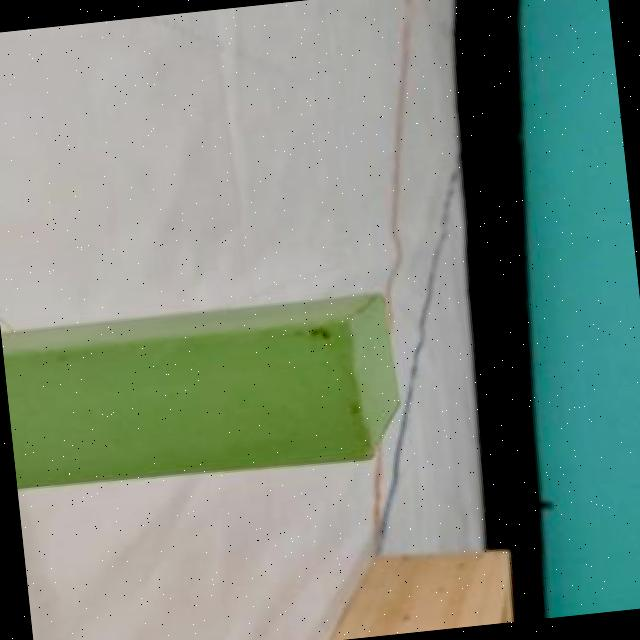greenbox: (0, 286, 413, 503)
